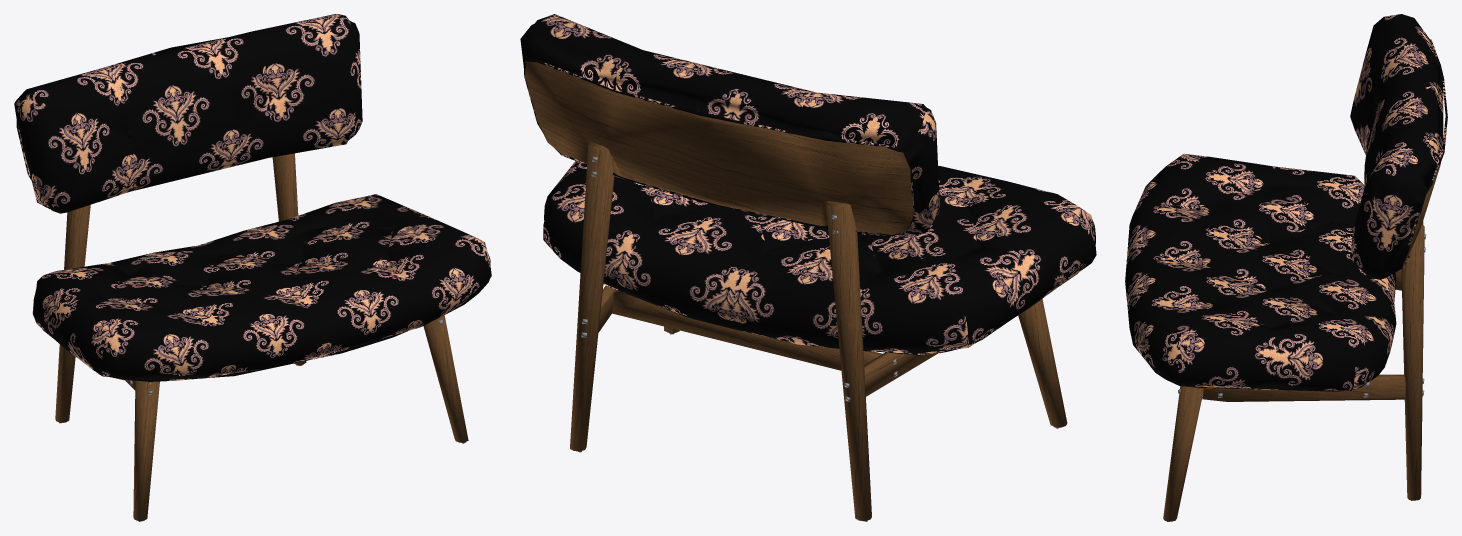
File: ChairDamaskPurplegold.glb
The picture shows the model from 3 angles, left to right: view 1: azimuth 30°, elevation 25°; view 2: azimuth 150°, elevation 25°; view 3: azimuth 270°, elevation 25°; orthographic projection. The views are drawn at different scales.
Visible parts, largest first — view 1: oval-tufted-chair_back-fabric, oval-tufted-chair_legs-frame; view 2: oval-tufted-chair_back-fabric, oval-tufted-chair_legs-frame; view 3: oval-tufted-chair_back-fabric, oval-tufted-chair_legs-frame.
Part boxes in pixels (box(x1,y1,x2,y2)): oval-tufted-chair_back-fabric: box(14, 14, 491, 381); oval-tufted-chair_legs-frame: box(55, 153, 468, 520); oval-tufted-chair_back-fabric: box(520, 14, 1096, 355); oval-tufted-chair_legs-frame: box(525, 60, 1067, 521); oval-tufted-chair_back-fabric: box(1125, 14, 1447, 391); oval-tufted-chair_legs-frame: box(1163, 63, 1441, 521).
Bounding box in the file's own units: 0.8286 × 0.6865 × 0.5696.
Materials: 4 (3 with a texture image).
